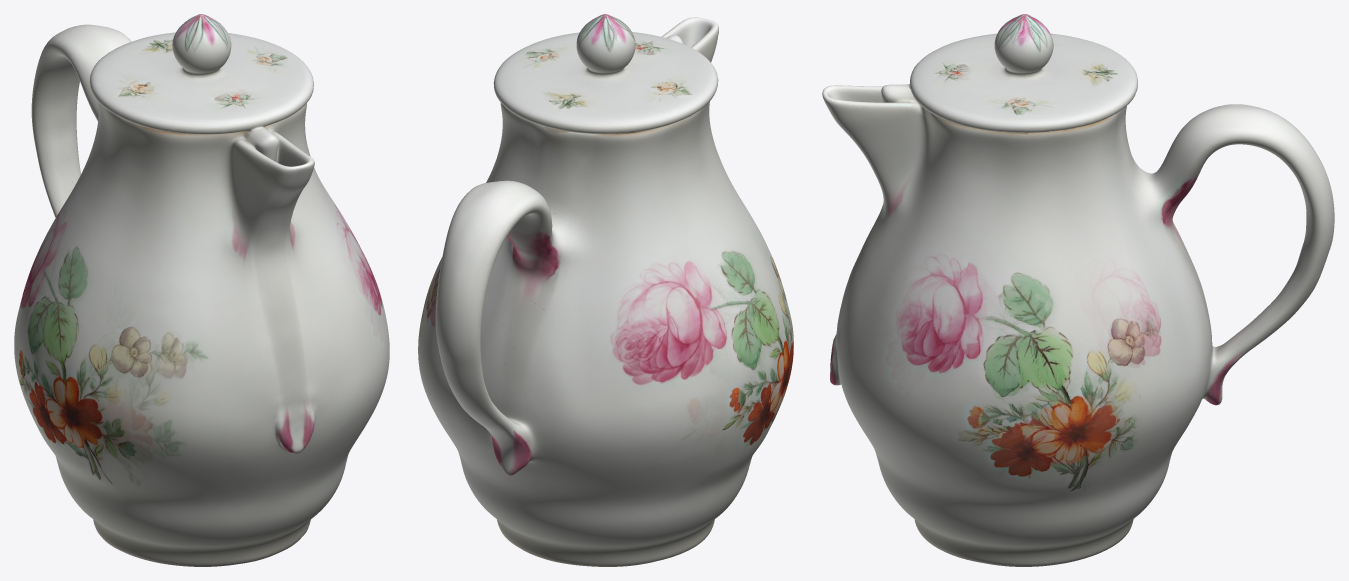
The model's file is porcelain-teapot.glb.
3 renders of one model, left to right at view 1: azimuth 30°, elevation 25°; view 2: azimuth 150°, elevation 25°; view 3: azimuth 270°, elevation 25°, orthographic.
Parts seen in each view (by area): view 1: tripo_node_325a1497-1d42-4959-9e91-d38383624c4a; view 2: tripo_node_325a1497-1d42-4959-9e91-d38383624c4a; view 3: tripo_node_325a1497-1d42-4959-9e91-d38383624c4a.
Boxes of the visible parts, left/top/right/bottom form: tripo_node_325a1497-1d42-4959-9e91-d38383624c4a: left=14, top=14, right=389, bottom=566; tripo_node_325a1497-1d42-4959-9e91-d38383624c4a: left=418, top=14, right=793, bottom=566; tripo_node_325a1497-1d42-4959-9e91-d38383624c4a: left=822, top=14, right=1334, bottom=566.
Size of the model in its own units: 0.6494 by 0.9763 by 0.8909.
1 material, 1 textured.
